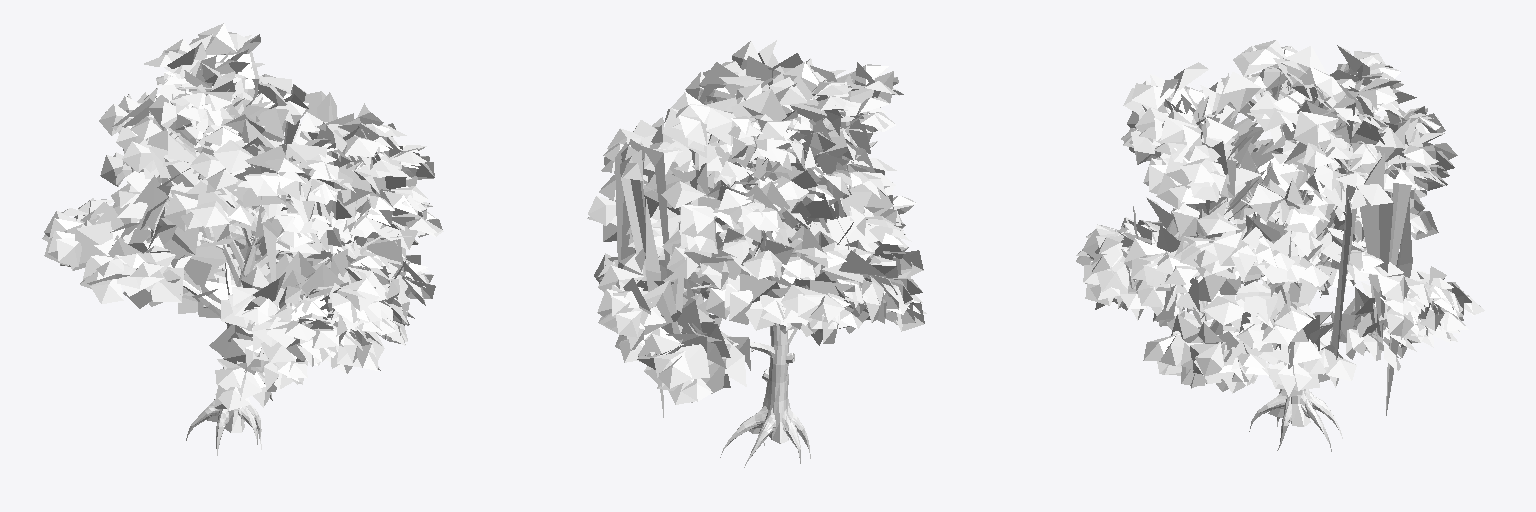
File: tree-un.obj
3 renders of one model, left to right at view 1: azimuth 30°, elevation 25°; view 2: azimuth 150°, elevation 25°; view 3: azimuth 270°, elevation 25°, orthographic.
Parts seen in each view (by area): view 1: Broadleaf_Desktop_LOD0; view 2: Broadleaf_Desktop_LOD0; view 3: Broadleaf_Desktop_LOD0.
Part boxes in pixels (x1,y1,x2,y2): Broadleaf_Desktop_LOD0: (42, 23, 443, 455); Broadleaf_Desktop_LOD0: (587, 40, 926, 467); Broadleaf_Desktop_LOD0: (1076, 40, 1484, 451).
Bounding box in the file's own units: 19.99 × 21.14 × 20.08.